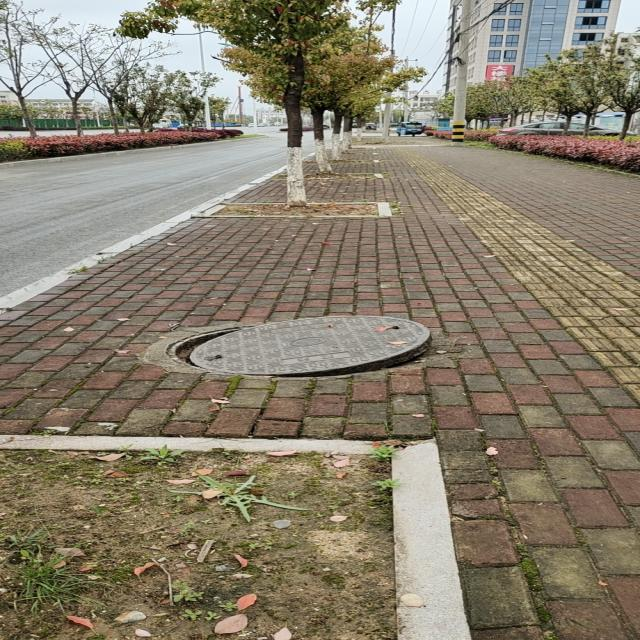Lose: (141, 316, 437, 380)
